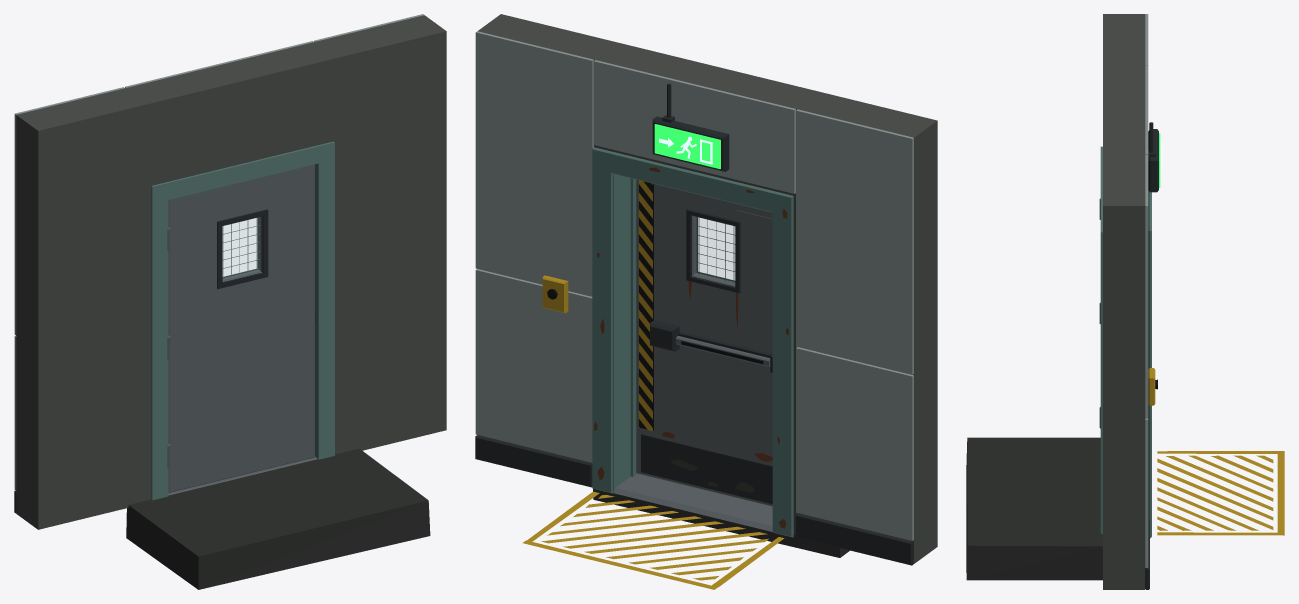
The model's file is exit_door.glb.
3 renders of one model, left to right at view 1: azimuth 30°, elevation 25°; view 2: azimuth 150°, elevation 25°; view 3: azimuth 270°, elevation 25°, orthographic. The views are drawn at different scales.
Parts seen in each view (by area): view 1: wall_core, door_slab, stoop, casing_outside, wall_cladding, window_glass, window_bead, jamb; view 2: wall_cladding, door_slab, wall_core, casing_inside, floor_marking, wall_skirting, jamb, kick_plate, threshold, stoop, window_glass, hazard_band (+9 smaller); view 3: wall_core, stoop, floor_marking, wall_cladding, casing_inside, casing_outside, exit_sign_housing.
Boxes of the visible parts, x1,y1,x2,y2 form: wall_core: (16, 15, 446, 529); door_slab: (168, 164, 314, 492); stoop: (126, 448, 430, 589); casing_outside: (151, 141, 334, 500); wall_cladding: (14, 14, 424, 490); window_glass: (223, 217, 259, 279); window_bead: (217, 209, 268, 288); jamb: (315, 164, 317, 457); wall_cladding: (475, 31, 913, 540); door_slab: (636, 179, 772, 506); wall_core: (477, 14, 937, 563); casing_inside: (592, 147, 793, 537); floor_marking: (523, 491, 784, 589); wall_skirting: (475, 435, 913, 565); jamb: (613, 174, 630, 491); kick_plate: (641, 434, 772, 504); threshold: (613, 473, 772, 531); stoop: (593, 489, 849, 557); window_glass: (695, 217, 734, 283); hazard_band: (639, 181, 653, 430); wall_core: (1103, 14, 1145, 589); stoop: (966, 437, 1102, 580); floor_marking: (1157, 451, 1284, 535); wall_cladding: (1145, 14, 1148, 567); casing_inside: (1148, 190, 1151, 538); casing_outside: (1100, 146, 1102, 533); exit_sign_housing: (1148, 129, 1158, 192).
Bounding box in the file's own units: 3 × 3.03 × 2.1.
